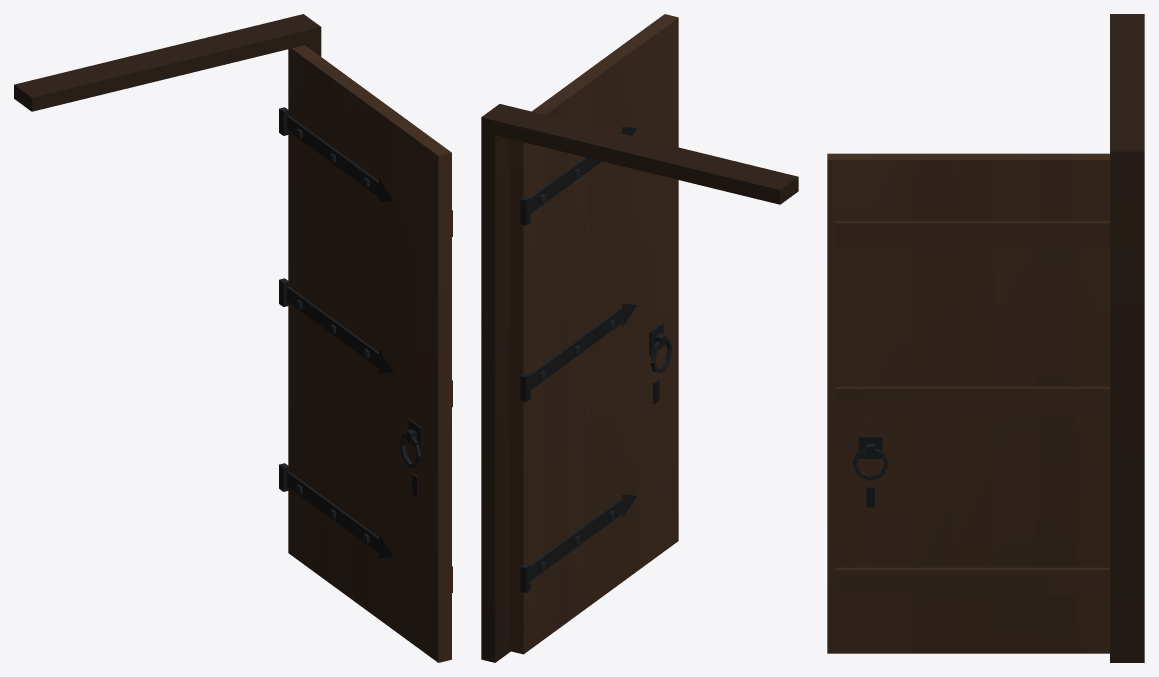
The model's file is door.oak_slim_open_pair_left.dark.glb.
The picture shows the model from 3 angles, left to right: view 1: azimuth 30°, elevation 25°; view 2: azimuth 150°, elevation 25°; view 3: azimuth 270°, elevation 25°; orthographic projection. The views are drawn at different scales.
Parts seen in each view (by area): view 1: door_oak_slim_open_pair_left_dark; view 2: door_oak_slim_open_pair_left_dark; view 3: door_oak_slim_open_pair_left_dark.
Part boxes in pixels (left/top/right/bottom): door_oak_slim_open_pair_left_dark: left=14, top=14, right=452, bottom=662; door_oak_slim_open_pair_left_dark: left=481, top=14, right=798, bottom=662; door_oak_slim_open_pair_left_dark: left=827, top=14, right=1144, bottom=662.
Size of what is drawn, in the model's own units: 1.5 by 2.6 by 1.46.
